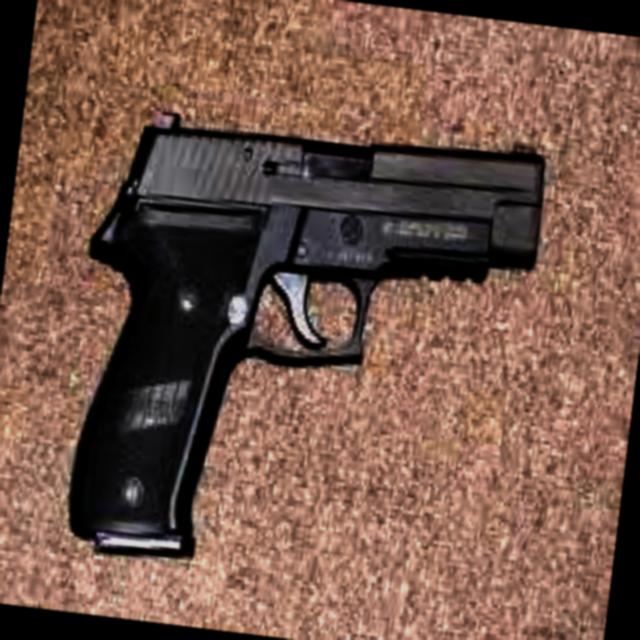semi automatic: (41, 82, 558, 614)
